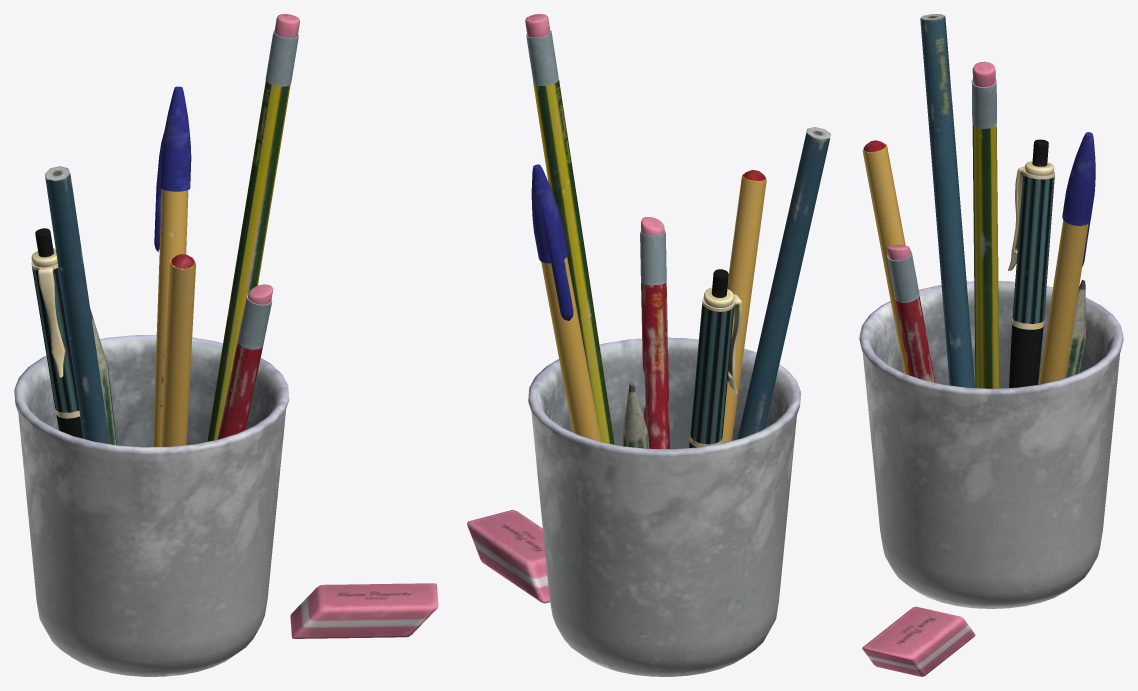
Rendered from papelaria.glb.
The picture shows the model from 3 angles, left to right: view 1: azimuth 30°, elevation 25°; view 2: azimuth 150°, elevation 25°; view 3: azimuth 270°, elevation 25°; orthographic projection. The views are drawn at different scales.
Visible parts, largest first — view 1: stationery_supplies_pen_red; view 2: stationery_supplies_pen_red; view 3: stationery_supplies_pen_red.
Boxes of the visible parts, left/top/right/bottom form: stationery_supplies_pen_red: left=14, top=14, right=438, bottom=676; stationery_supplies_pen_red: left=467, top=14, right=830, bottom=676; stationery_supplies_pen_red: left=859, top=14, right=1123, bottom=676.
Size of the model in its own units: 0.1324 by 0.1998 by 0.0837.
Materials: 1 (1 with a texture image).
